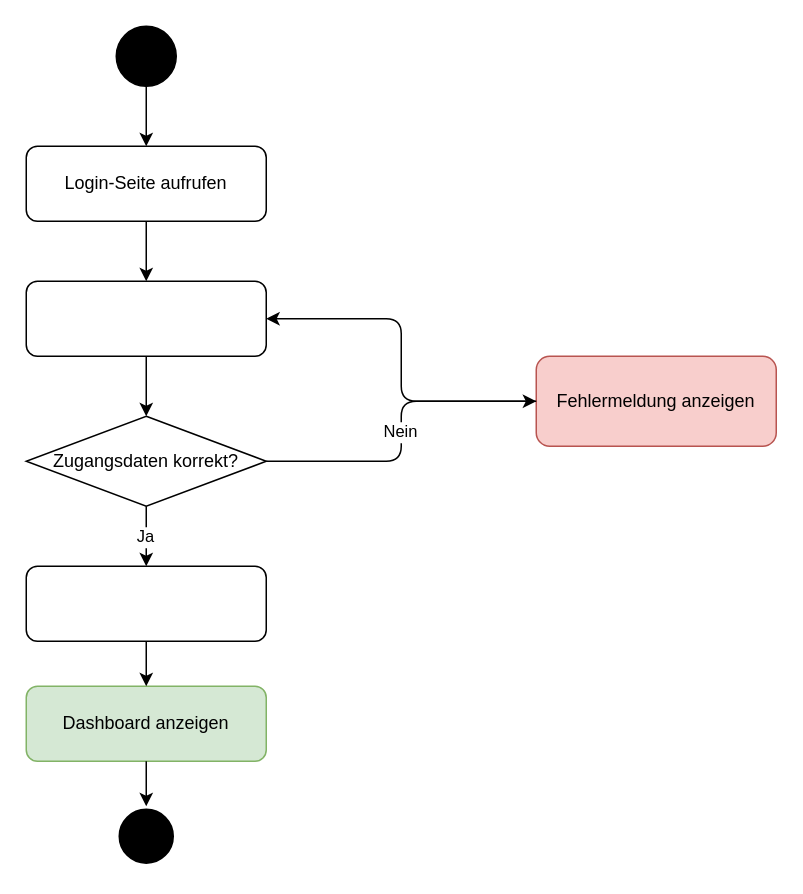
Some shapes in this 803 by 894 pixel diagram are drawn without their labels. The centre of each missing label's shape, as x and y in pixels:
Session erstellen: the point at 145,603
Username & Passwort eingeben: the point at 145,318
